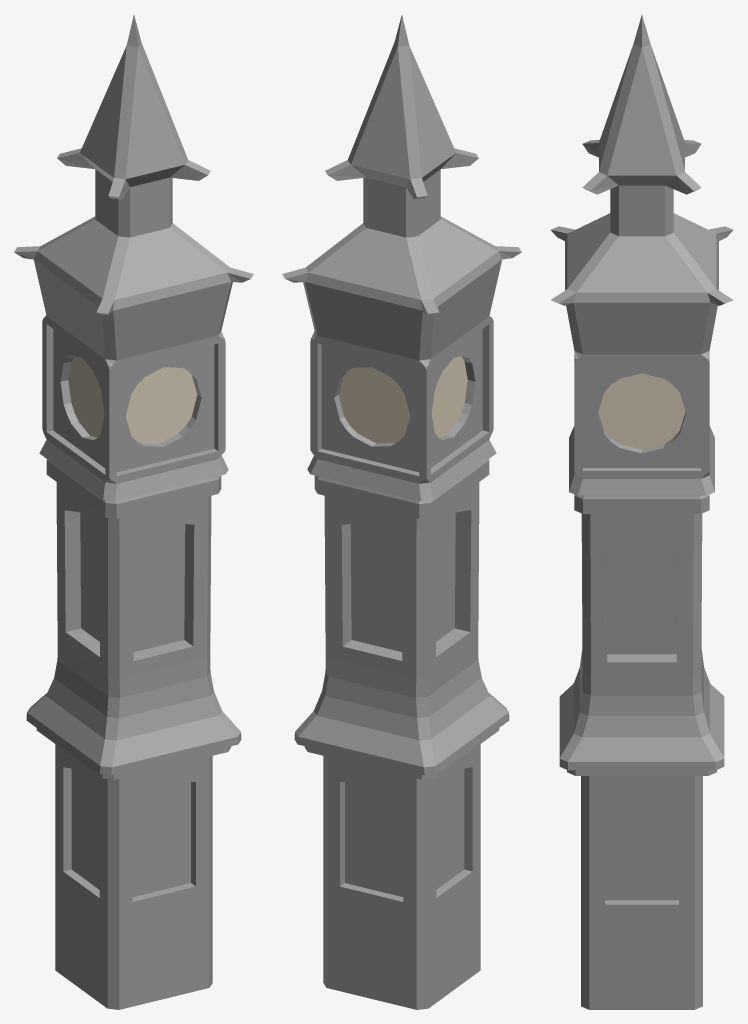
Rendered from Clocktower-Mesh-003.fbx.
3 views of the same model, side by side, from view 1: azimuth 30°, elevation 25°; view 2: azimuth 150°, elevation 25°; view 3: azimuth 270°, elevation 25° (orthographic).
Visible parts, largest first — view 1: Clocktower_Mesh_003; view 2: Clocktower_Mesh_003; view 3: Clocktower_Mesh_003.
Part boxes in pixels (box(x1,y1,x2,y2)): Clocktower_Mesh_003: box(14, 15, 253, 1009); Clocktower_Mesh_003: box(282, 15, 521, 1009); Clocktower_Mesh_003: box(551, 15, 732, 1009).
Size of the model in its own units: 2791 by 16303 by 2791.
